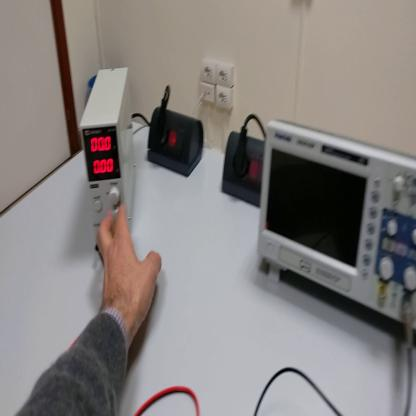hand: (97, 206, 163, 334)
oscilloscope: (262, 117, 416, 328)
power supply: (76, 68, 132, 249)
socket: (150, 104, 206, 180), (222, 130, 269, 209)
